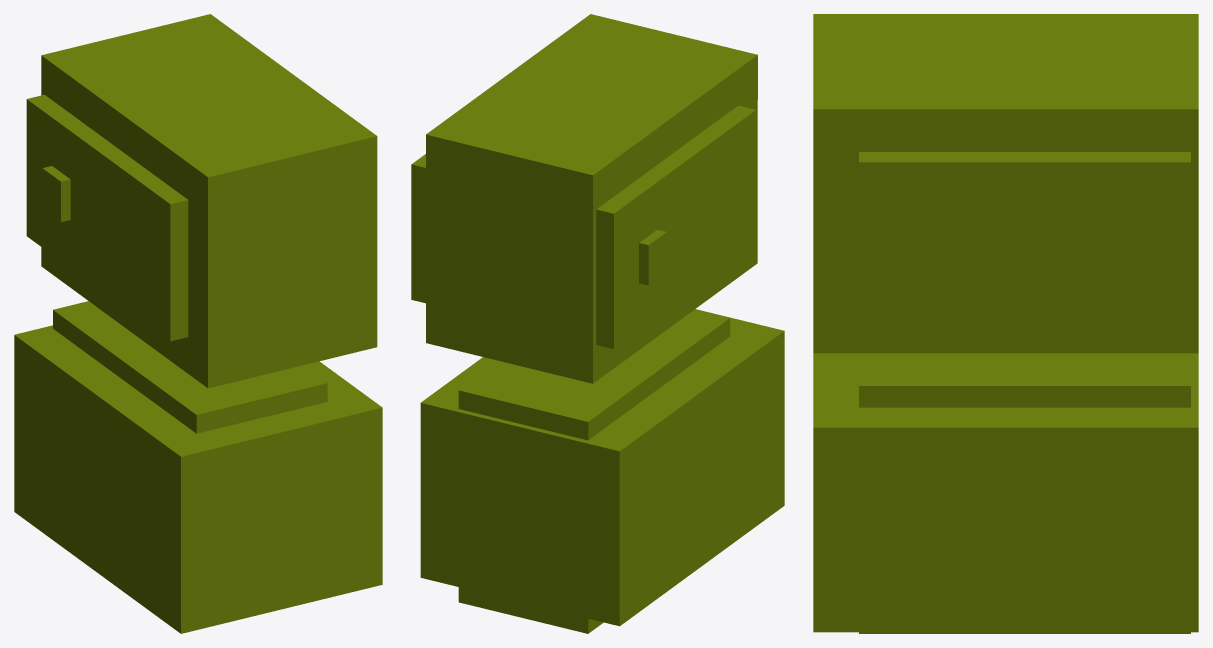
File: part_17_opt_2.obj
The picture shows the model from 3 angles, left to right: view 1: azimuth 30°, elevation 25°; view 2: azimuth 150°, elevation 25°; view 3: azimuth 270°, elevation 25°; orthographic projection. The views are drawn at different scales.
Parts seen in each view (by area): view 1: Box016, Box018; view 2: Box016, Box018; view 3: Box016, Box018.
Part boxes in pixels (x1,y1,x2,y2): Box016: (26,14,377,388); Box018: (14,301,382,633); Box016: (411,14,757,383); Box018: (420,309,784,633); Box016: (813,14,1198,353); Box018: (813,353,1198,633).
Size of the model in its own units: 37.59 by 80.1 by 50.58.
